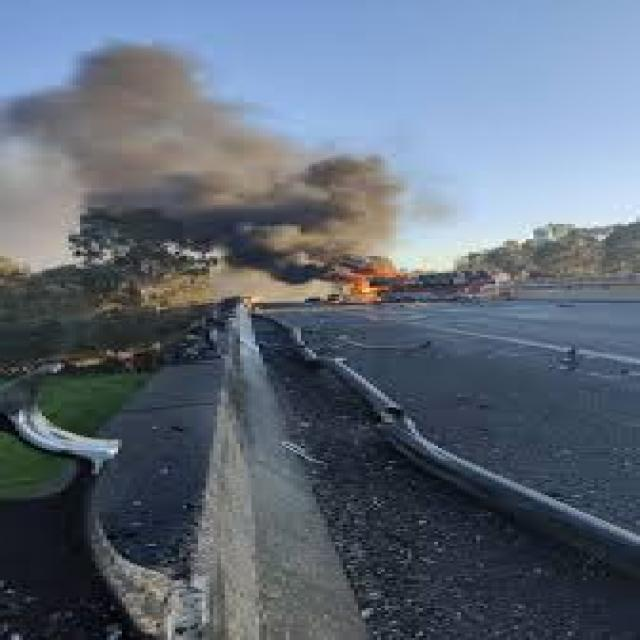fire: (339, 262, 419, 305)
smoke: (4, 38, 404, 282)
